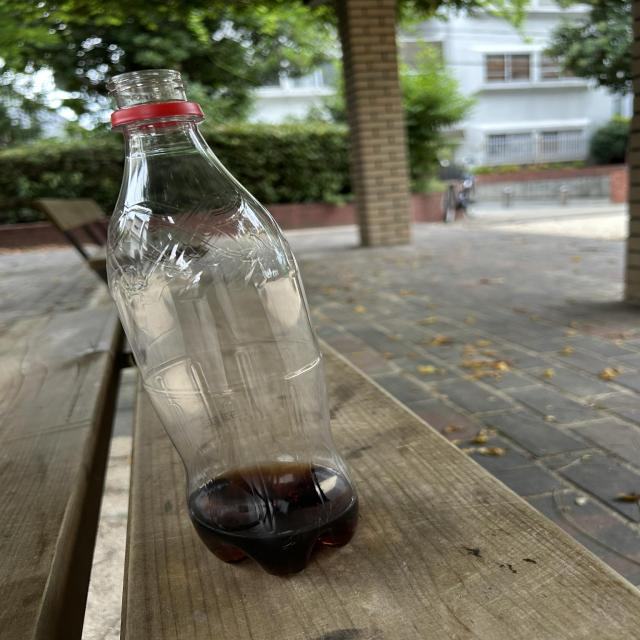low: (107, 69, 358, 575)
